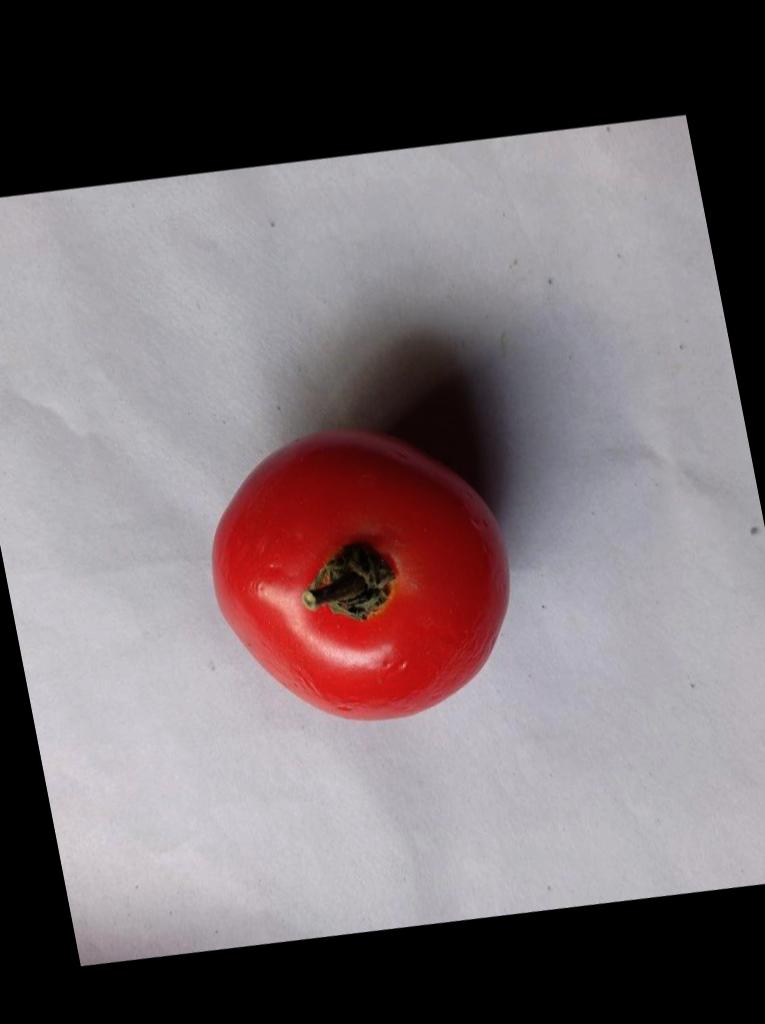tomato: (211, 431, 506, 720)
